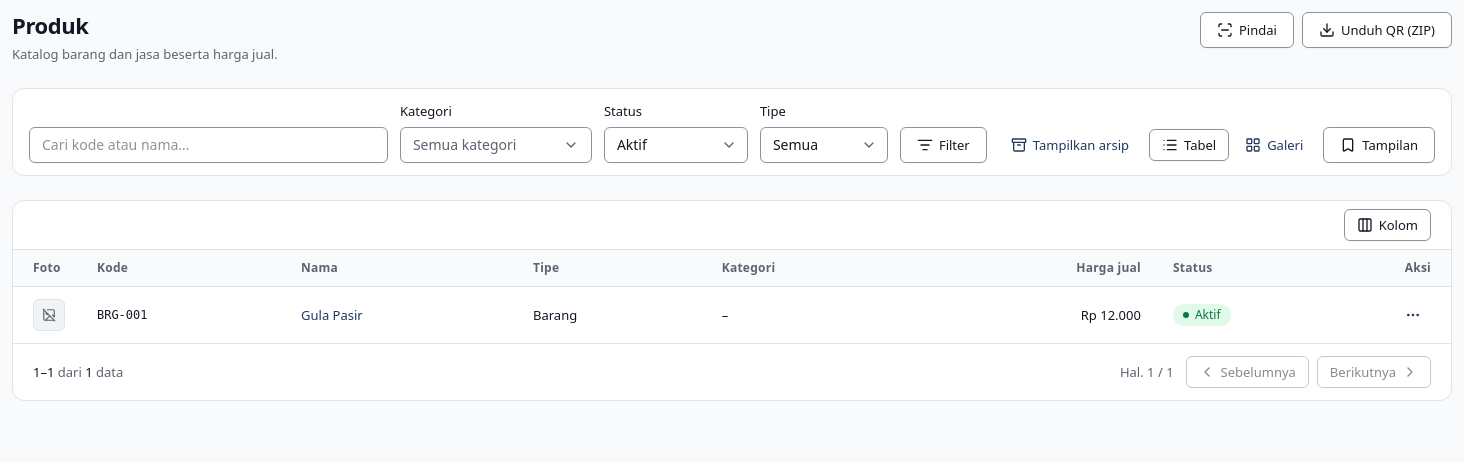
it: daftar produk — filter bawaan Aktif + arsip › pilihan eksplisit 'Semua status' tidak mengirim filter status (tetap di URL)
Expected: the link "Gula Pasir" is shown, [301, 306, 363, 324]
Select "Semua status" in the dropdown labelled "Status". click: (676, 144)
box: [604, 126, 748, 162]
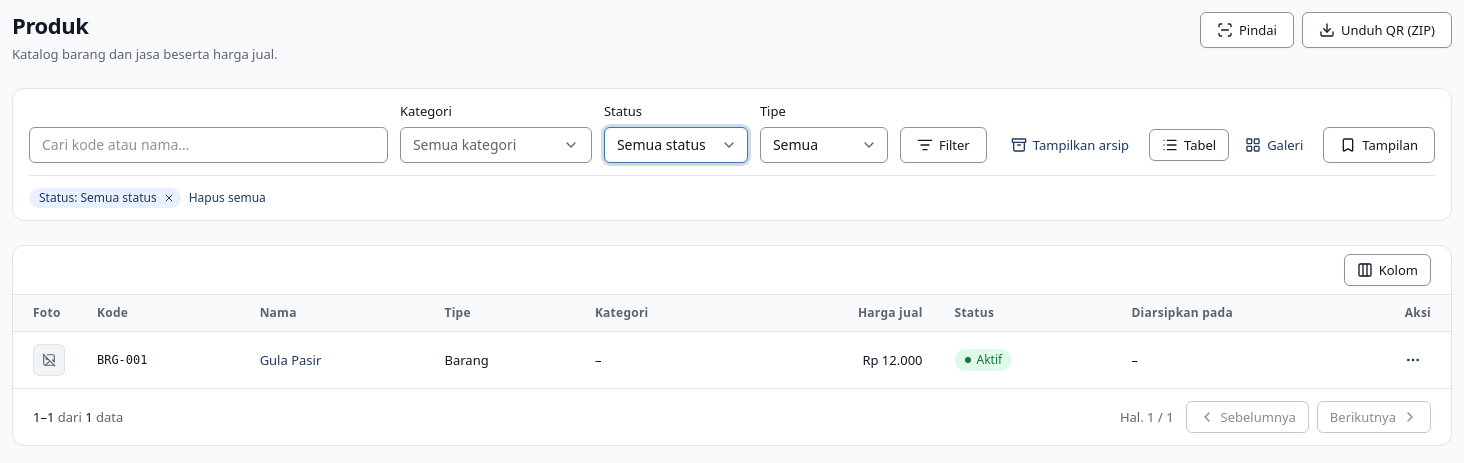
Result: the text "Status: Semua status" is shown at [29, 188, 181, 208]
